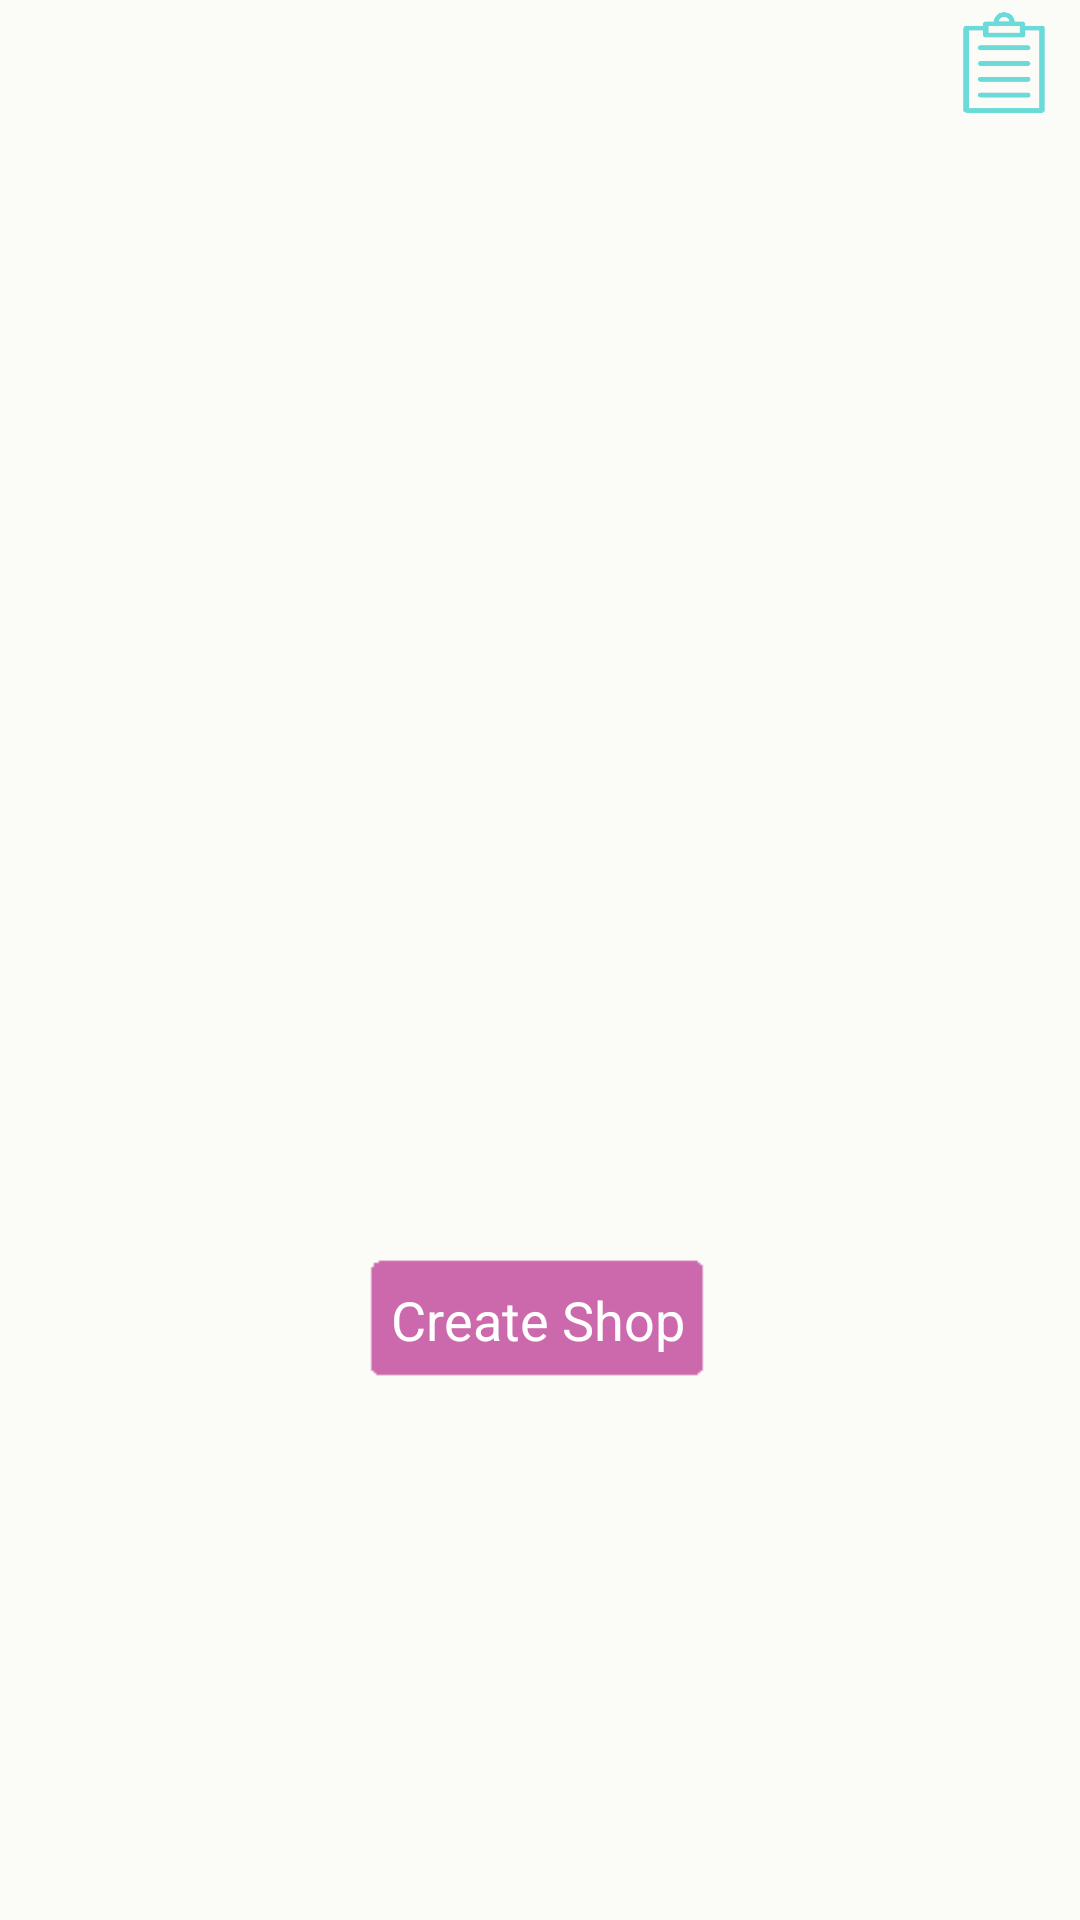

Icon click points for this 1080px x 1920px phone screenshot, format [x,y]:
allshoporder: [1004,62]
